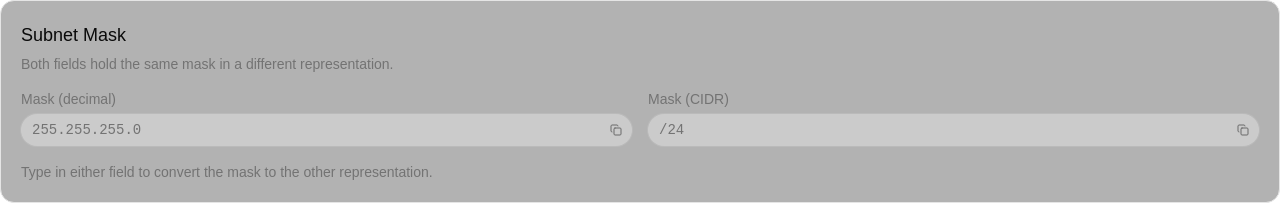
MaskSection › rejects a mask whose bits are not contiguous
Type "255.0.255.0" into the field labelled "Mask (decimal)" at (313, 130), box top-left (22, 114), bottom-right (604, 146)
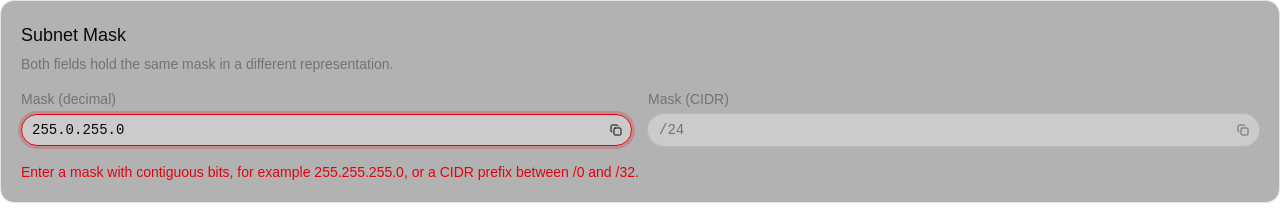
Expected: the field labelled "Mask (CIDR)" is empty, top-left (649, 114), bottom-right (1231, 146)
Now the text "Enter a mask with contiguous bits, for example 255.255.255.0, or a CIDR prefix between /0 and /32." is shown, box top-left (21, 164), bottom-right (639, 180)
